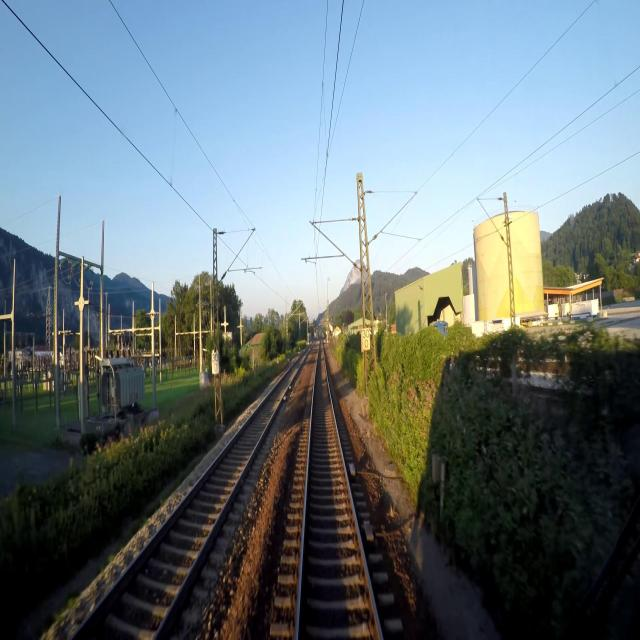rail-track: (76, 355, 304, 639), (300, 344, 378, 639)
